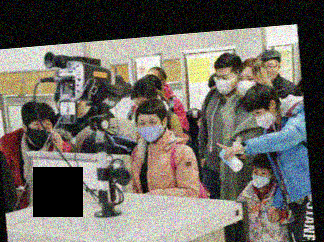with_mask: (136, 115, 163, 141), (27, 121, 53, 146), (214, 70, 236, 96), (250, 106, 273, 130), (236, 72, 257, 97), (250, 165, 270, 189)
